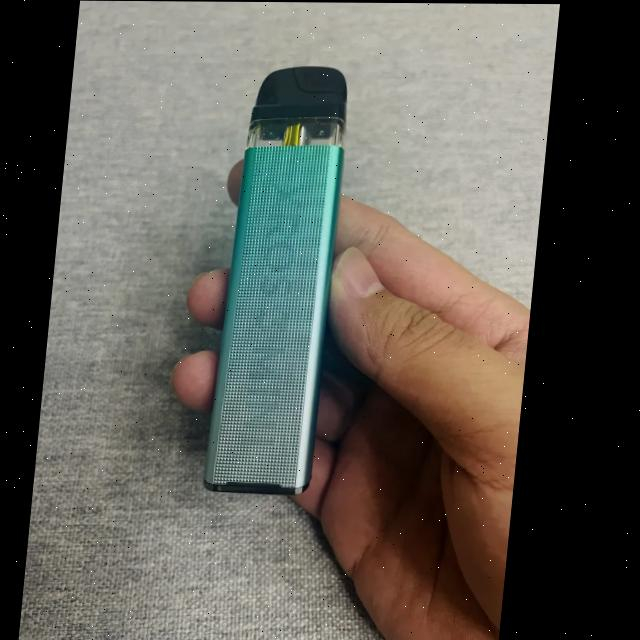vape: (215, 59, 357, 499)
